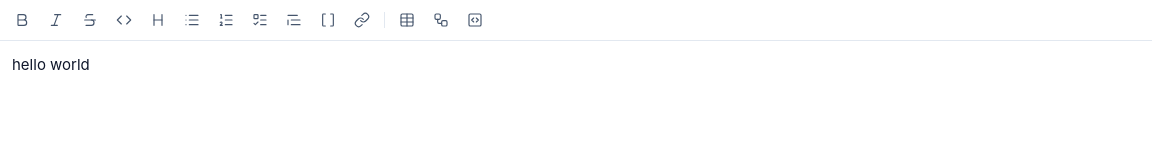
Test case: the format buttons › Strikethrough wraps the selection
Click the button named "Strikethrough" at (90, 20), box top-left (74, 4), bottom-right (106, 36)
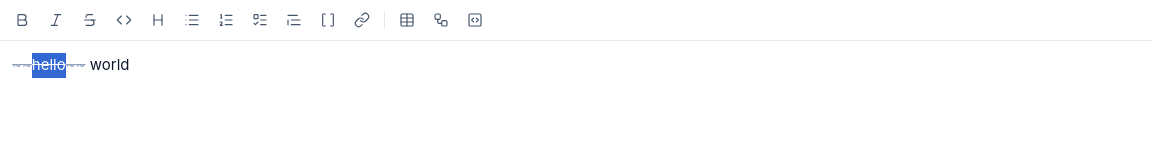
Result: the text box labelled "~~hello~~ world" is shown at top-left (12, 55), bottom-right (130, 74)
